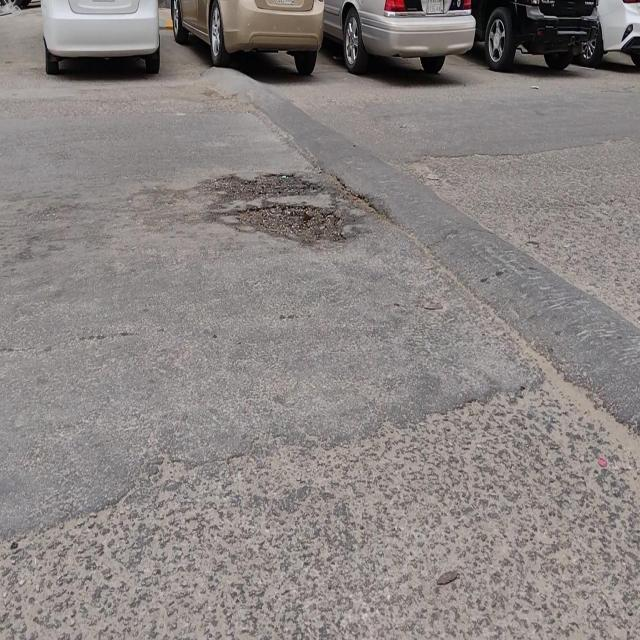Potholes: (213, 172, 339, 249)
